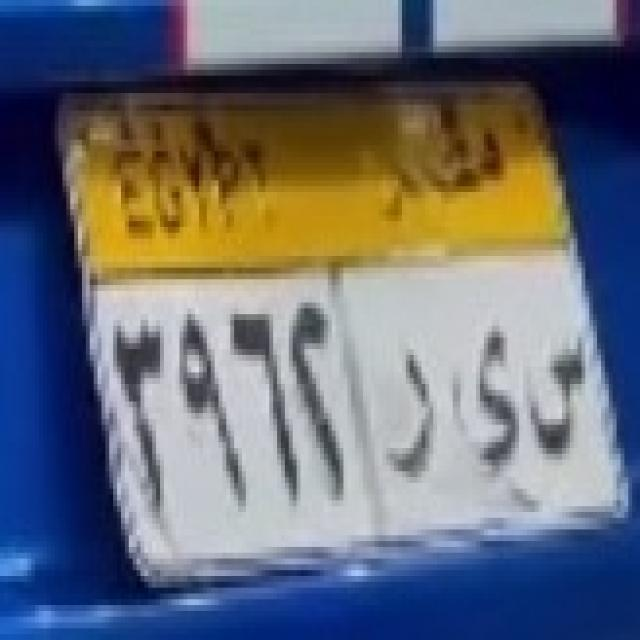2: (287, 291, 352, 513)
3: (106, 304, 178, 518), (170, 316, 243, 524)
6: (238, 296, 297, 510)
9: (178, 298, 242, 520)
R: (382, 331, 444, 489)
Seen: (522, 307, 600, 466)
Yeeh: (450, 315, 530, 481)
